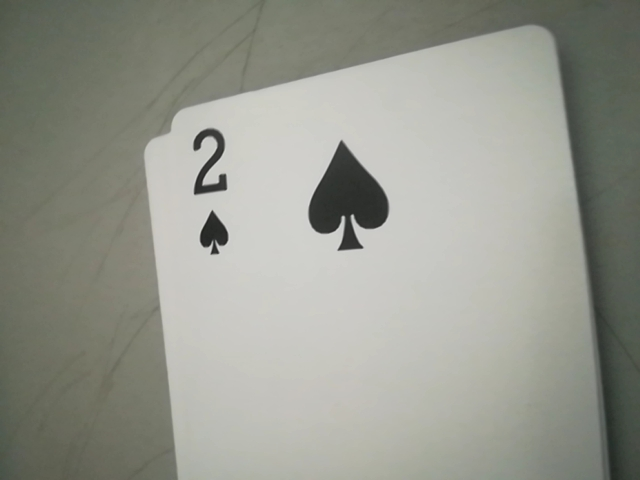ht 2: (177, 109, 255, 272)
